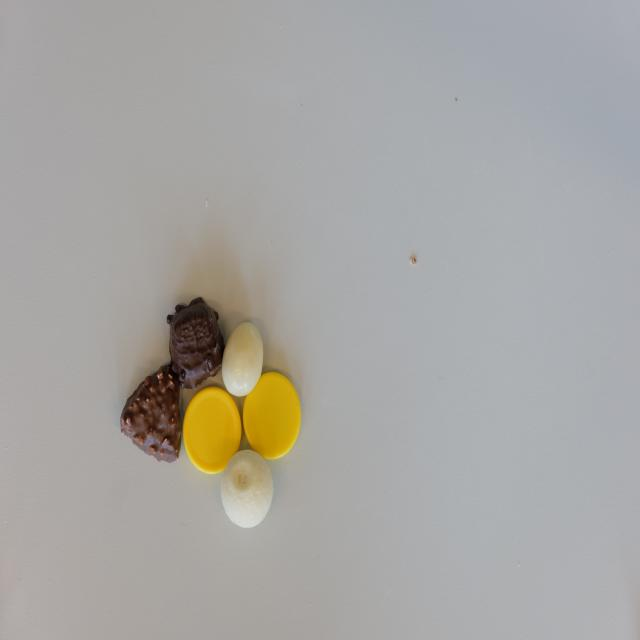Comtesse: (220, 449, 273, 530)
Jelly_White: (222, 316, 263, 396)
Tentation_noir: (167, 296, 226, 390)
Triangolo: (120, 362, 183, 464)
